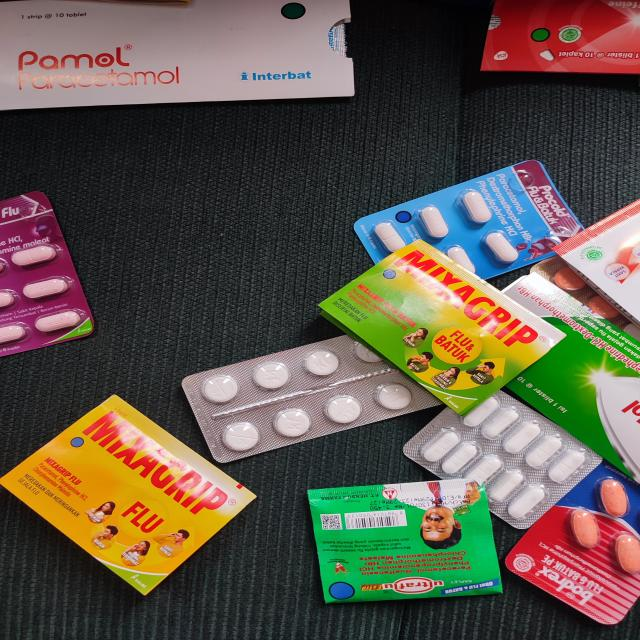B3: (0, 393, 262, 596), (317, 238, 571, 417), (0, 0, 354, 112), (181, 334, 445, 463), (501, 273, 640, 489), (354, 159, 591, 279), (401, 394, 602, 531), (309, 477, 502, 604), (501, 454, 640, 626), (0, 189, 93, 358), (483, 0, 640, 76)
